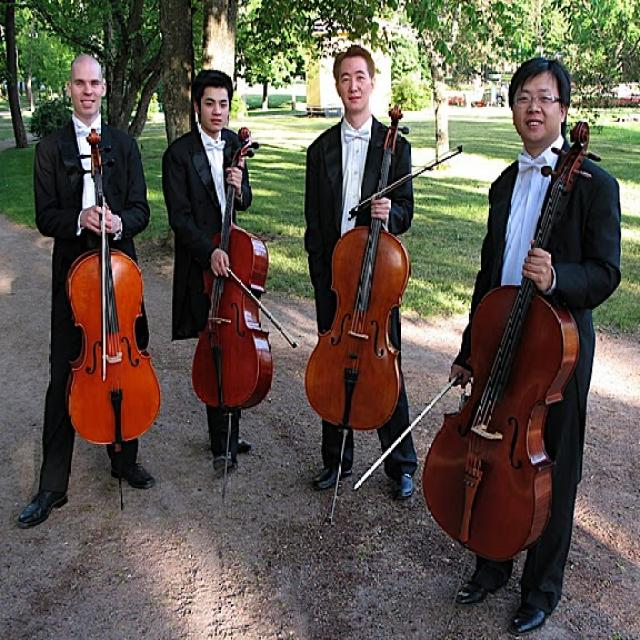cello: (421, 118, 602, 561), (305, 104, 414, 436), (62, 128, 163, 446), (190, 123, 278, 413)
